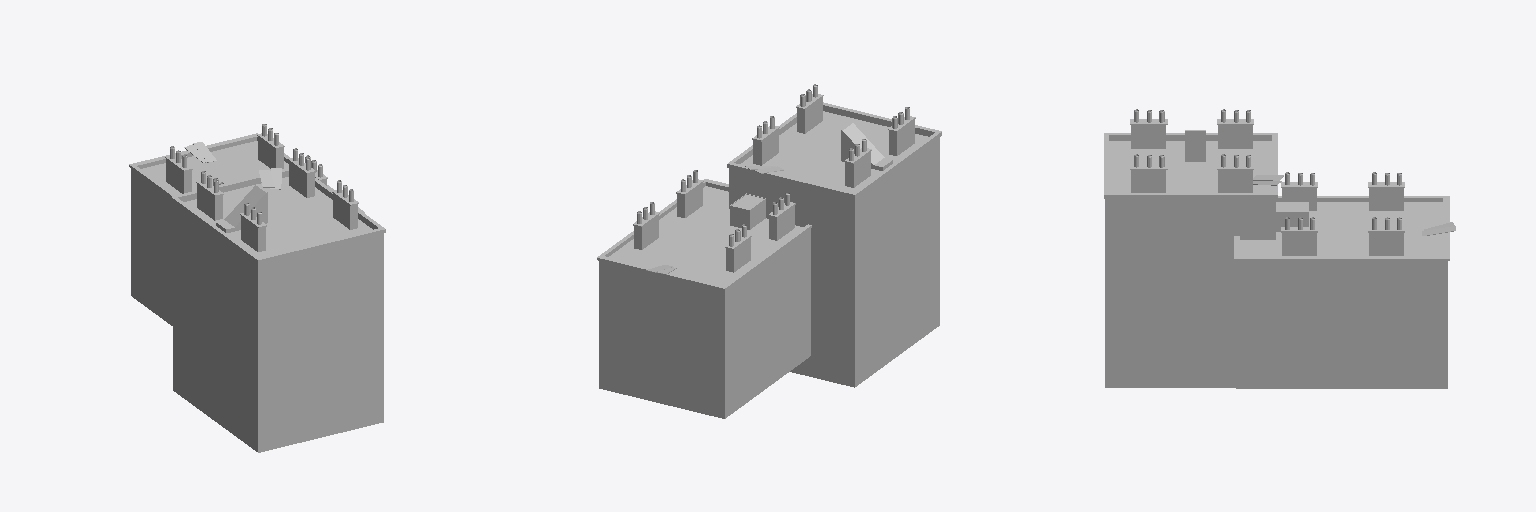
The picture shows the model from 3 angles: view 1: azimuth 30°, elevation 25°; view 2: azimuth 150°, elevation 25°; view 3: azimuth 270°, elevation 25°; orthographic projection.
Visible parts, largest first — view 1: Main_Cube, Main.001_Cube.020, Cube_Cube.005, Pipe_Cube.001, Pipe.003_Cube.004, Pipe.002_Cube.003, Pipe.001_Cube.002, Pipe.007_Cube.019, Pipe.004_Cube.016; view 2: Main.001_Cube.020, Main_Cube, Main.002_Cube.024, Cube_Cube.005, Pipe.003_Cube.004, Pipe_Cube.001, Pipe.001_Cube.002, Pipe.002_Cube.003, Pipe.005_Cube.017, Pipe.006_Cube.018, Pipe.004_Cube.016, Pipe.007_Cube.019; view 3: Main.001_Cube.020, Main_Cube, Pipe.001_Cube.002, Pipe_Cube.001, Pipe.004_Cube.016, Pipe.005_Cube.017, Pipe.007_Cube.019, Pipe.002_Cube.003, Pipe.003_Cube.004, Pipe.006_Cube.018, Main.002_Cube.024, Cube_Cube.005.
Boxes of the visible parts, box(x1,y1,x2,y2) form: Main_Cube: box(171, 168, 385, 452); Main.001_Cube.020: box(129, 133, 364, 325); Cube_Cube.005: box(216, 185, 267, 232); Pipe_Cube.001: box(196, 180, 223, 220); Pipe.003_Cube.004: box(288, 157, 315, 197); Pipe.002_Cube.003: box(332, 189, 358, 229); Pipe.001_Cube.002: box(240, 212, 266, 251); Pipe.007_Cube.019: box(165, 155, 192, 193); Pipe.004_Cube.016: box(257, 133, 284, 168); Main.001_Cube.020: box(597, 179, 811, 418); Main_Cube: box(727, 102, 941, 387); Main.002_Cube.024: box(730, 193, 765, 229); Cube_Cube.005: box(841, 122, 892, 170); Pipe.003_Cube.004: box(752, 116, 779, 165); Pipe_Cube.001: box(844, 139, 871, 187); Pipe.001_Cube.002: box(888, 107, 915, 155); Pipe.002_Cube.003: box(796, 84, 823, 133); Pipe.005_Cube.017: box(676, 170, 703, 217); Pipe.006_Cube.018: box(768, 193, 795, 240); Pipe.004_Cube.016: box(633, 202, 659, 249); Pipe.007_Cube.019: box(725, 224, 751, 272); Main.001_Cube.020: box(1234, 196, 1449, 388); Main_Cube: box(1104, 133, 1277, 387); Pipe.001_Cube.002: box(1130, 109, 1167, 148); Pipe_Cube.001: box(1217, 109, 1253, 148); Pipe.004_Cube.016: box(1368, 217, 1404, 255); Pipe.005_Cube.017: box(1281, 217, 1317, 255); Pipe.007_Cube.019: box(1368, 172, 1404, 210); Pipe.002_Cube.003: box(1130, 154, 1167, 192); Pipe.003_Cube.004: box(1217, 154, 1253, 192); Pipe.006_Cube.018: box(1281, 172, 1317, 210); Main.002_Cube.024: box(1276, 202, 1308, 231); Cube_Cube.005: box(1185, 130, 1205, 161).
Bounding box in the file's own units: 8.79 × 10.96 × 15.57.